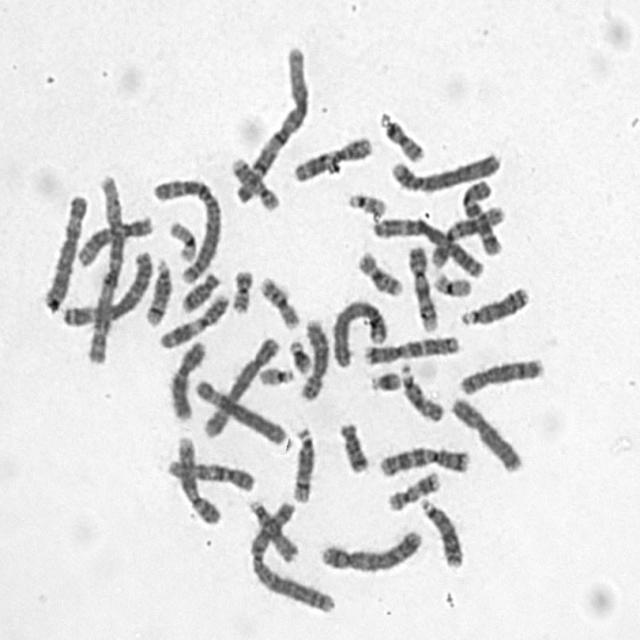A1: (232, 46, 310, 207), (85, 175, 126, 365)
A2: (248, 502, 340, 614), (152, 177, 223, 284)
A3: (62, 250, 152, 330), (371, 218, 485, 280)
B4: (388, 152, 502, 193), (332, 300, 388, 369)
B5: (202, 336, 282, 440), (319, 529, 424, 573)
C10: (166, 458, 258, 494), (462, 180, 502, 258)
C11: (292, 137, 376, 185), (159, 294, 229, 350)
C12: (430, 203, 506, 269), (75, 215, 153, 269)
C6: (194, 381, 286, 447), (44, 194, 88, 310)
C7: (378, 446, 470, 482), (361, 336, 460, 366)
C8: (459, 358, 546, 396), (298, 316, 331, 402)
C9: (175, 436, 222, 526), (406, 246, 439, 332)
D13: (418, 497, 465, 568), (459, 286, 531, 327)
D14: (142, 258, 173, 330), (292, 422, 318, 505)
D15: (247, 500, 300, 566), (399, 363, 446, 424)
E16: (356, 249, 406, 298), (256, 276, 300, 330)
E17: (231, 156, 282, 214), (386, 470, 440, 512)
E18: (336, 419, 372, 477), (181, 271, 219, 315)
F19: (168, 221, 198, 263), (432, 271, 474, 299)
F20: (385, 121, 426, 163), (230, 268, 254, 316)
G21: (289, 339, 313, 377), (369, 371, 401, 394)
G22: (348, 194, 387, 217), (258, 364, 294, 388)
X: (450, 396, 523, 476), (168, 340, 208, 422)
